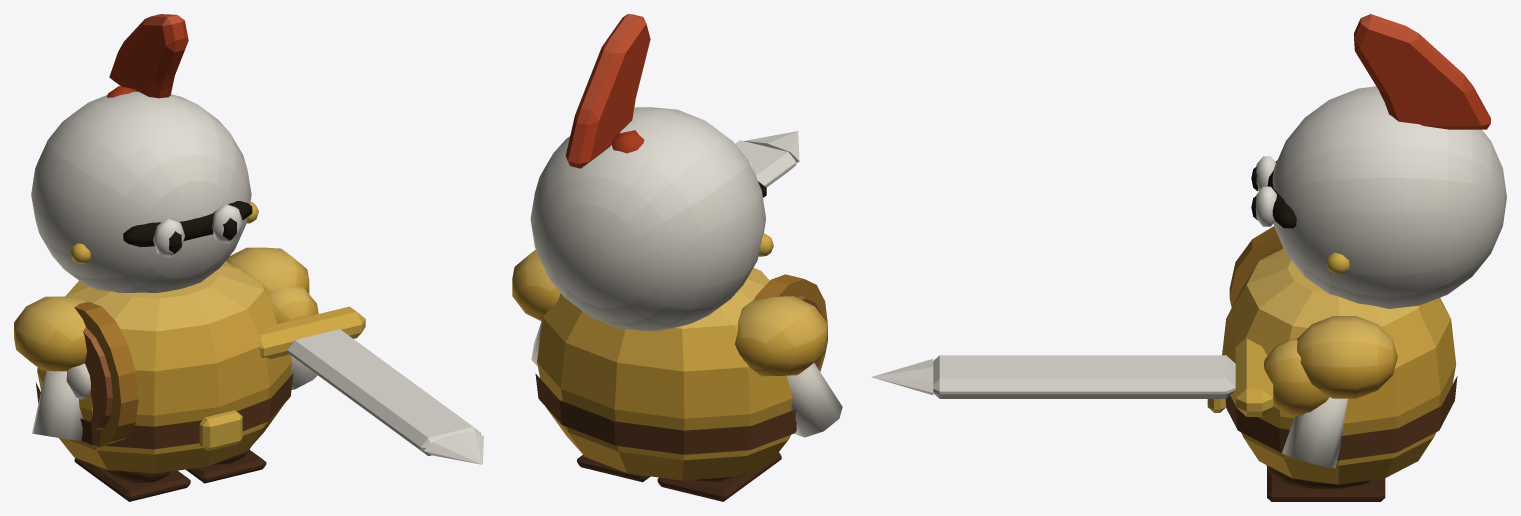
File: chevalier.glb
3 renders of one model, left to right at view 1: azimuth 30°, elevation 25°; view 2: azimuth 150°, elevation 25°; view 3: azimuth 270°, elevation 25°, orthographic. The views are drawn at different scales.
Visible parts, largest first — view 1: corps, tete, arme, bouclier, plume, pied_g, yeux, pied_d; view 2: corps, tete, plume, arme, pied_g, bouclier, pied_d; view 3: tete, corps, arme, plume, pied_d, bouclier, yeux.
Part boxes in pixels (<box>): corps: <box>14,247,317,473</box>; tete: <box>31,91,258,292</box>; arme: <box>259,286,483,464</box>; bouclier: <box>66,301,138,447</box>; plume: <box>107,14,188,98</box>; pied_g: <box>74,458,190,501</box>; yeux: <box>153,204,242,257</box>; pied_d: <box>186,447,266,483</box>; corps: <box>512,250,842,480</box>; tete: <box>530,107,773,330</box>; plume: <box>565,14,650,168</box>; arme: <box>735,131,799,187</box>; pied_g: <box>657,452,781,501</box>; bouclier: <box>754,274,827,371</box>; pied_d: <box>577,455,650,482</box>; tete: <box>1267,86,1506,308</box>; corps: <box>1207,248,1457,484</box>; arme: <box>871,338,1329,416</box>; plume: <box>1354,14,1490,129</box>; pied_d: <box>1266,465,1385,501</box>; bouclier: <box>1229,226,1283,307</box>; yeux: <box>1251,156,1276,226</box>.
Bounding box in the file's own units: 1.2 × 1.64 × 2.04.
